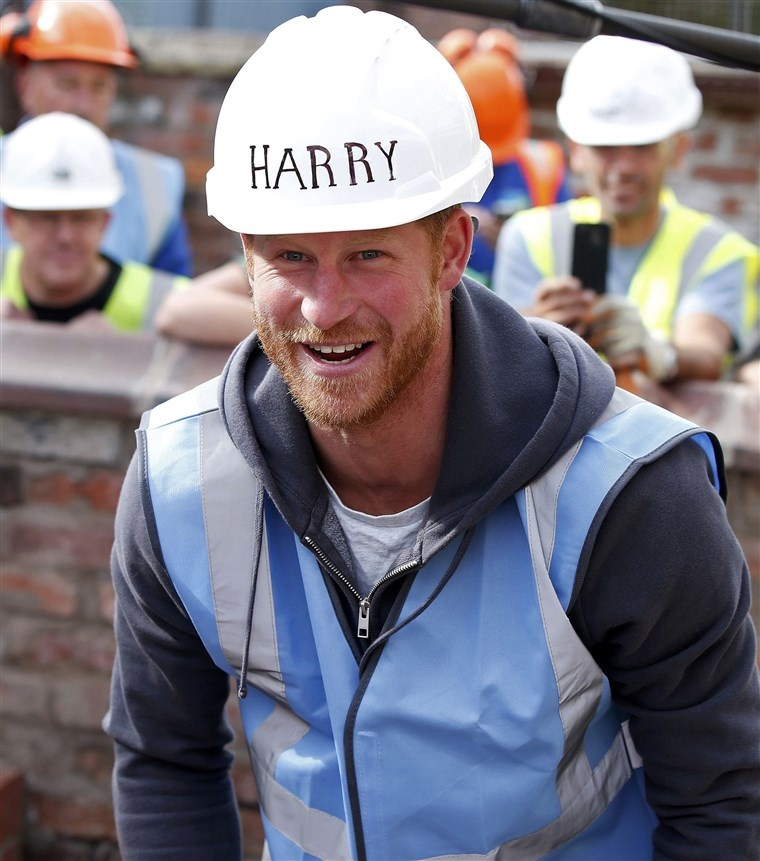no_mask: (257, 298, 436, 429), (17, 236, 101, 291), (584, 168, 661, 219)
